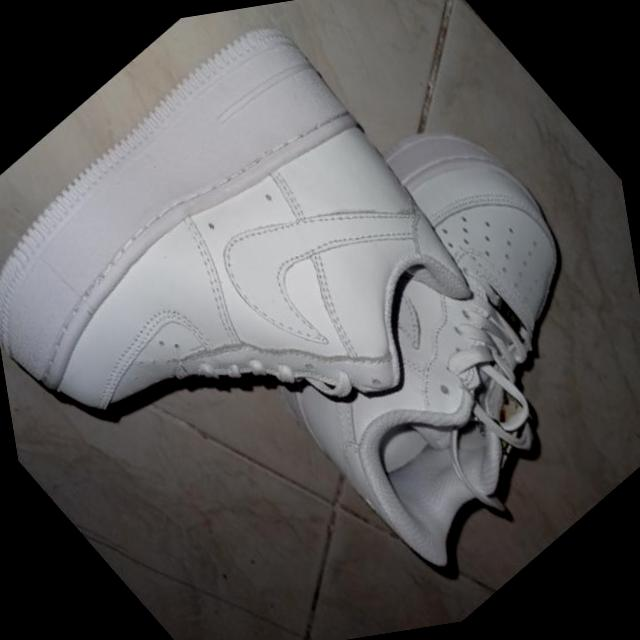nike_fake_airforce: (0, 0, 543, 584), (162, 75, 640, 628)
